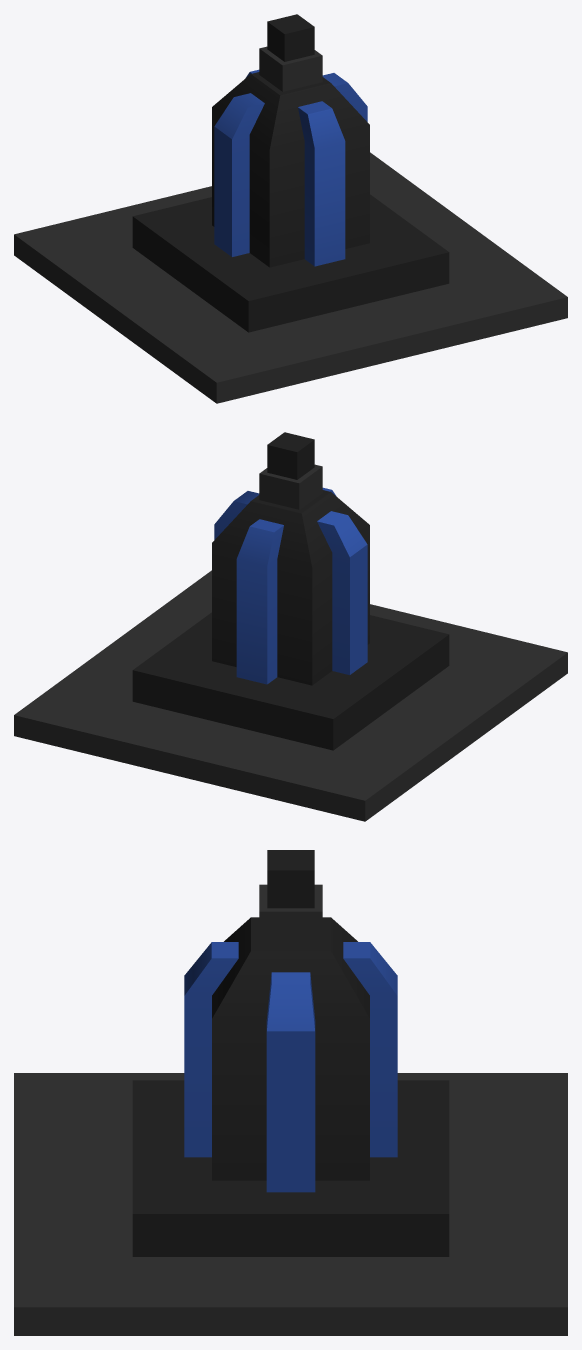
Rendered from RocketLauncherBase.dae.
3 renders of one model, top to bottom at view 1: azimuth 30°, elevation 25°; view 2: azimuth 150°, elevation 25°; view 3: azimuth 270°, elevation 25°, orthographic. The views are drawn at different scales.
Parts seen in each view (by area): view 1: Box_3, Box_1, Box_6; view 2: Box_3, Box_1, Box_6; view 3: Box_3, Box_1, Box_6.
Part boxes in pixels (x1,y1,x2,y2): Box_3: (14,46,567,403); Box_1: (132,14,449,332); Box_6: (214,69,367,266); Box_3: (14,464,567,821); Box_1: (132,432,449,750); Box_6: (214,487,367,684); Box_3: (14,884,567,1335); Box_1: (132,850,449,1256); Box_6: (184,942,397,1192).
Bounding box in the file's own units: 1.75 × 1.25 × 1.75.
